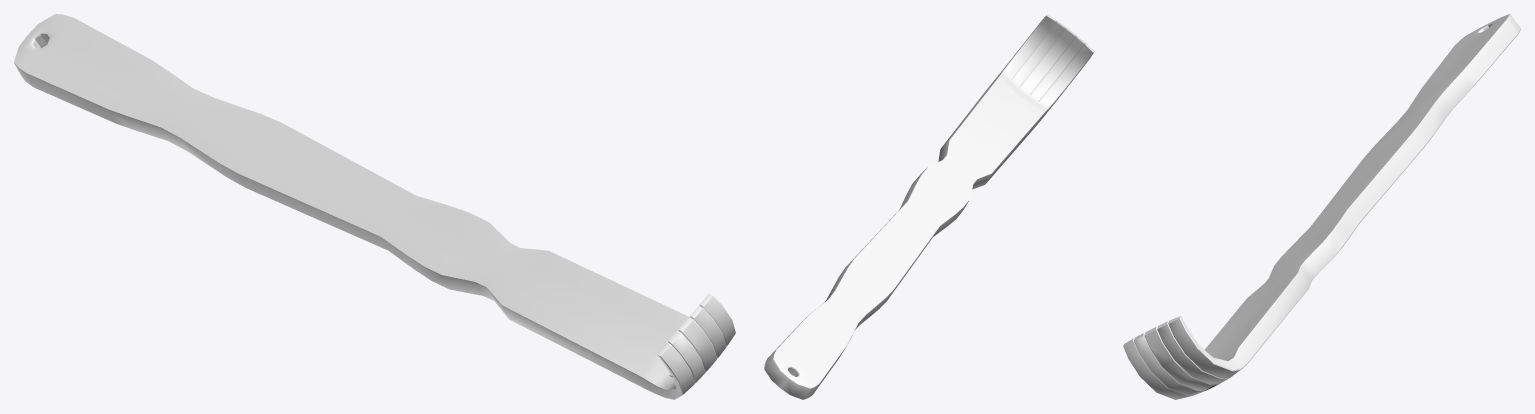
File: WoodHand.obj
3 views of the same model, side by side, from view 1: azimuth 30°, elevation 25°; view 2: azimuth 150°, elevation 25°; view 3: azimuth 330°, elevation 25° (orthographic). The views are drawn at different scales.
Visible parts, largest first — view 1: 应用.001; view 2: 应用.001; view 3: 应用.001.
Part boxes in pixels (x1,y1,x2,y2): 应用.001: (14, 14, 735, 399); 应用.001: (764, 14, 1094, 399); 应用.001: (1123, 14, 1520, 399).
Size of the model in its own units: 0.8196 by 0.4121 by 3.37.
